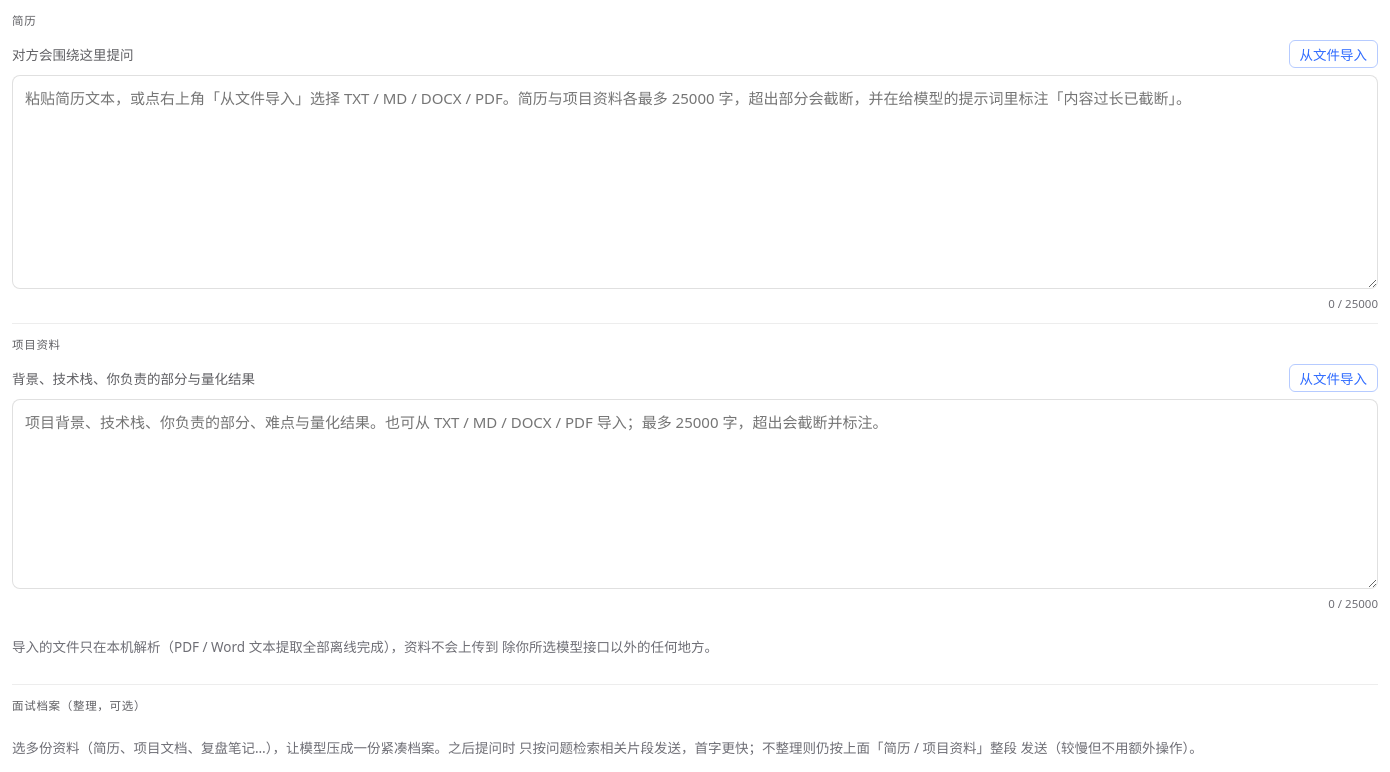
Test case: ProfileCard —— 从文件导入 › 选文件后调 import_document_text 并把文本 patch 进简历
Click the button "从文件导入" in the row of "对方会围绕这里提问" at {"x": 1333, "y": 54}, box [1288,40,1378,68]
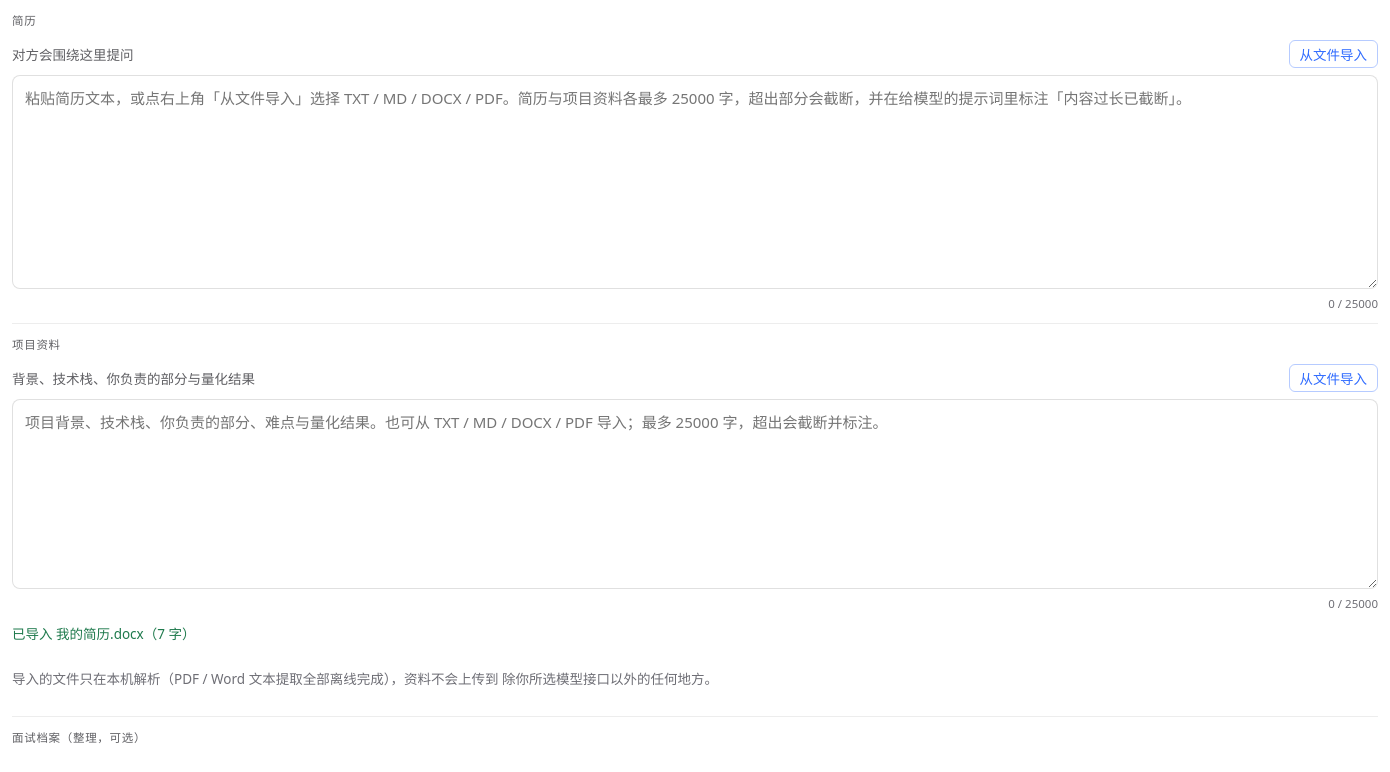
Now the text "已导入 我的简历.docx（7 字）" is shown, box [12,625,196,643]
